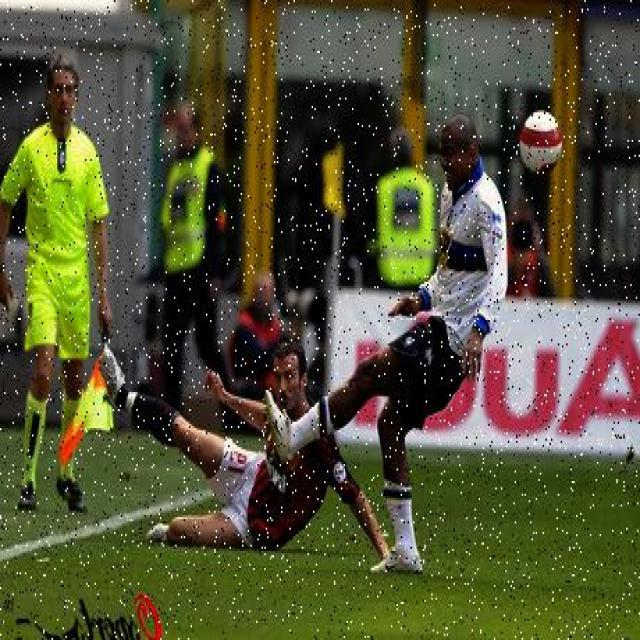fall: (110, 350, 364, 534)
